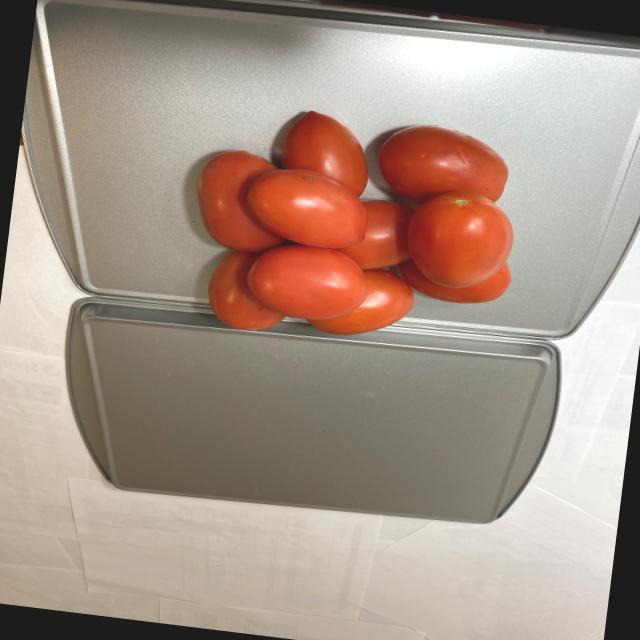tomato: (170, 90, 531, 364)
